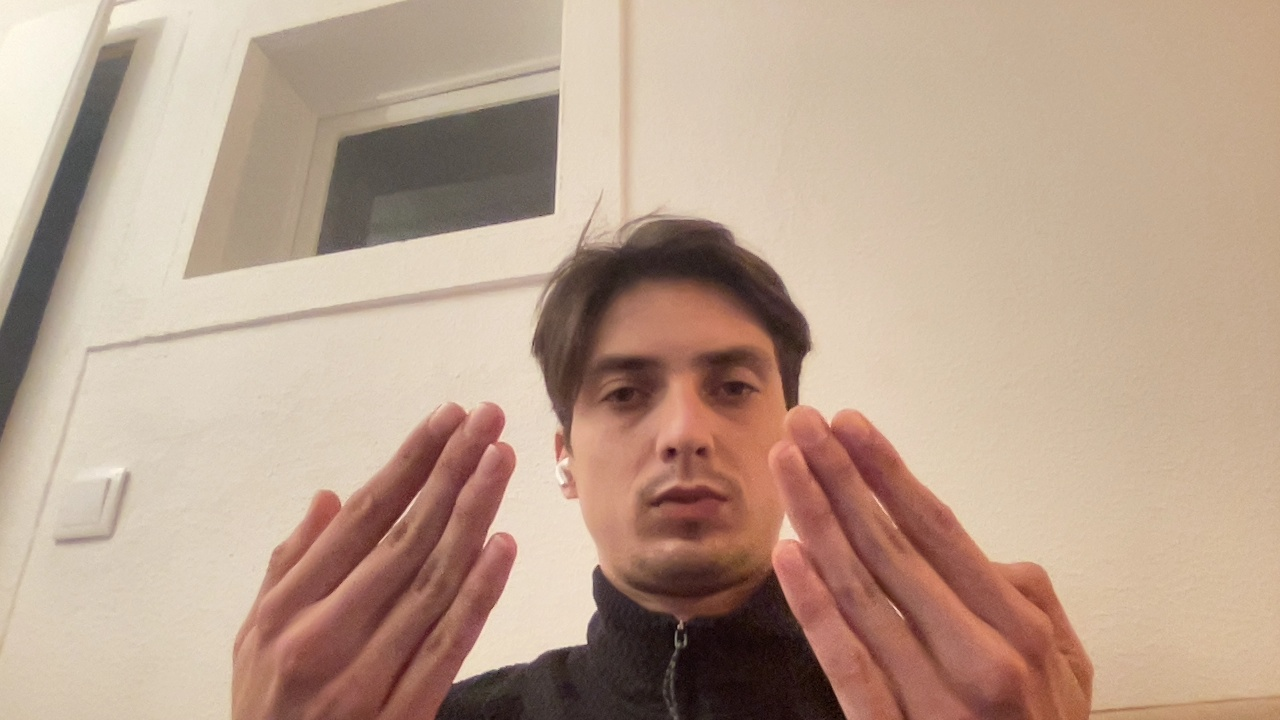Thank you: (698, 398, 1119, 720), (173, 392, 557, 720)
